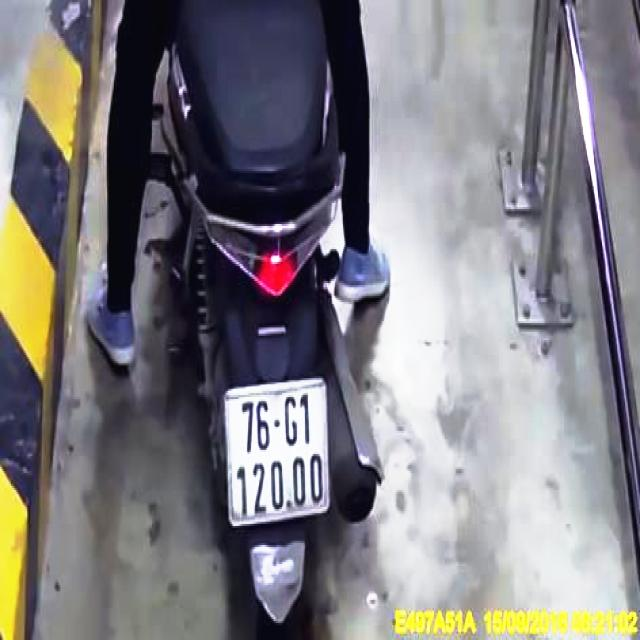license_plate: (227, 384, 328, 524)
